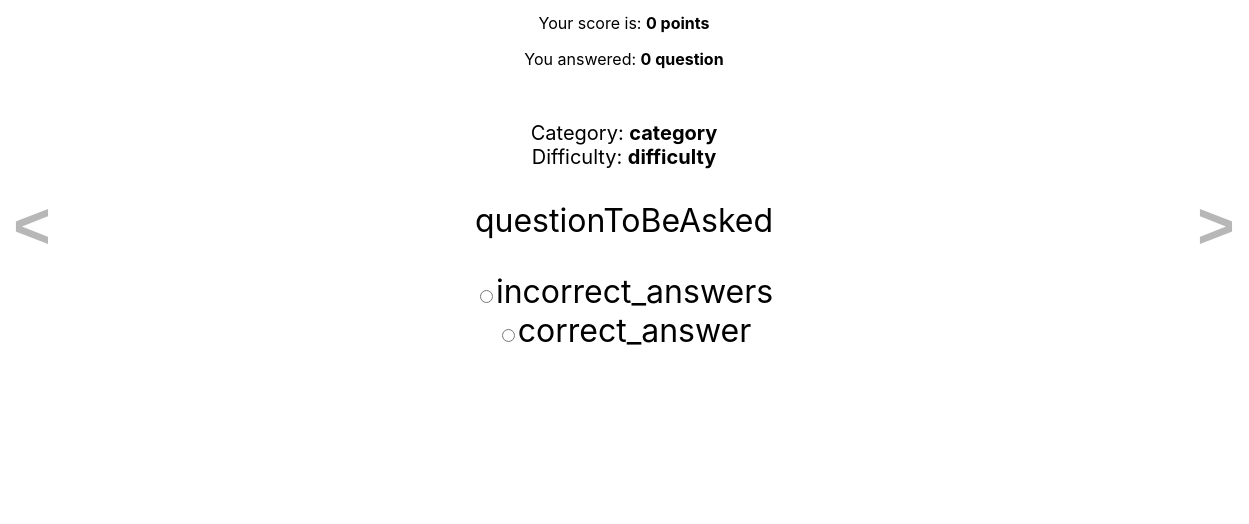
Test: shows 'You are Wrong!!!' if the answer is correct
Click the radio button labelled "incorrect_answers". click: (486, 296)
box: [480, 290, 493, 303]
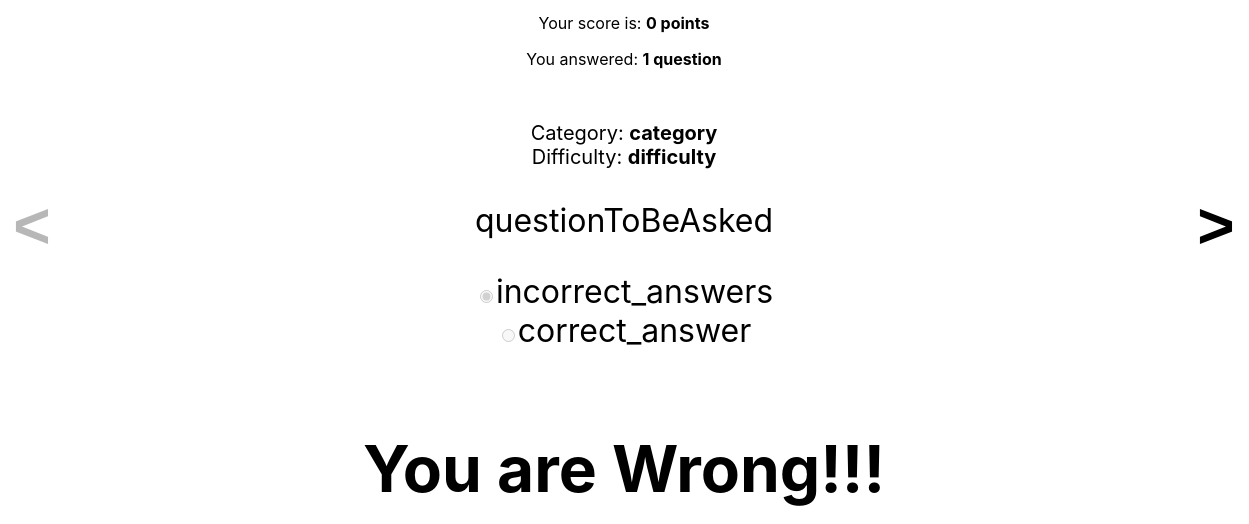
Now the text "You are Wrong!!!" is shown, box [363, 430, 885, 507]
